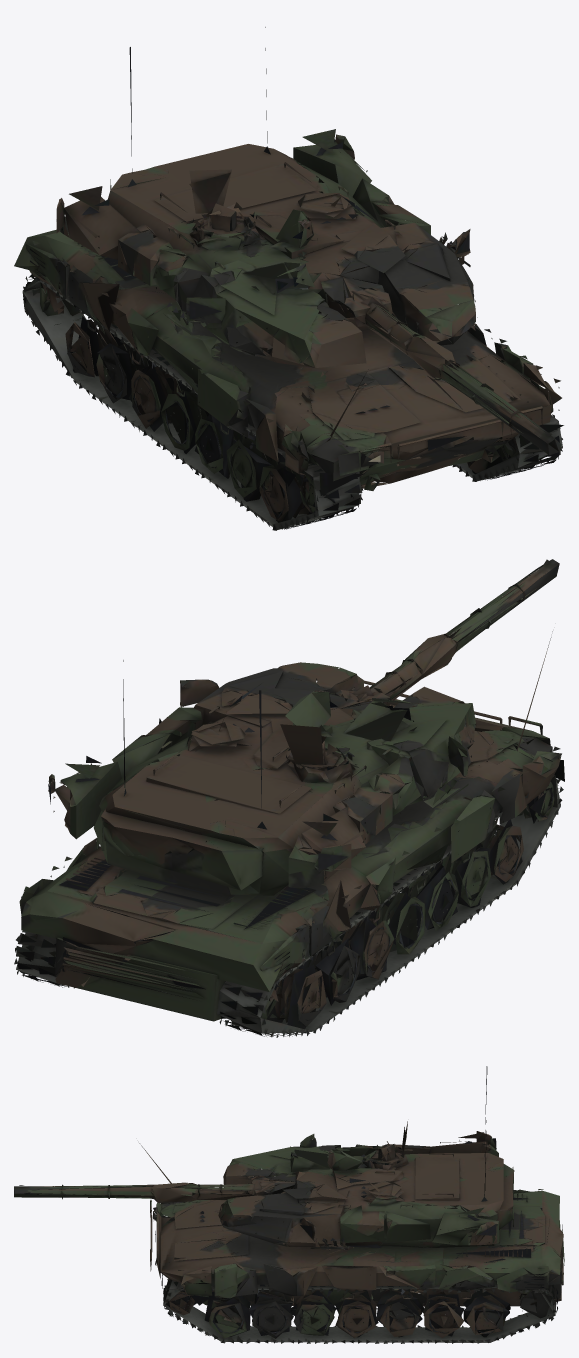
The model's file is veh_leopard.glb.
3 renders of one model, top to bottom at view 1: azimuth 30°, elevation 25°; view 2: azimuth 150°, elevation 25°; view 3: azimuth 270°, elevation 25°, orthographic. The views are drawn at different scales.
Visible parts, largest first — view 1: veh_leopard; view 2: veh_leopard; view 3: veh_leopard.
Boxes of the visible parts, left/top/right/bottom form: veh_leopard: left=14, top=27, right=563, bottom=530; veh_leopard: left=14, top=559, right=564, bottom=1037; veh_leopard: left=14, top=1066, right=564, bottom=1343.
Bounding box in the file's own units: 4.42 × 4.62 × 10.65.
Materials: 1 (1 with a texture image).
